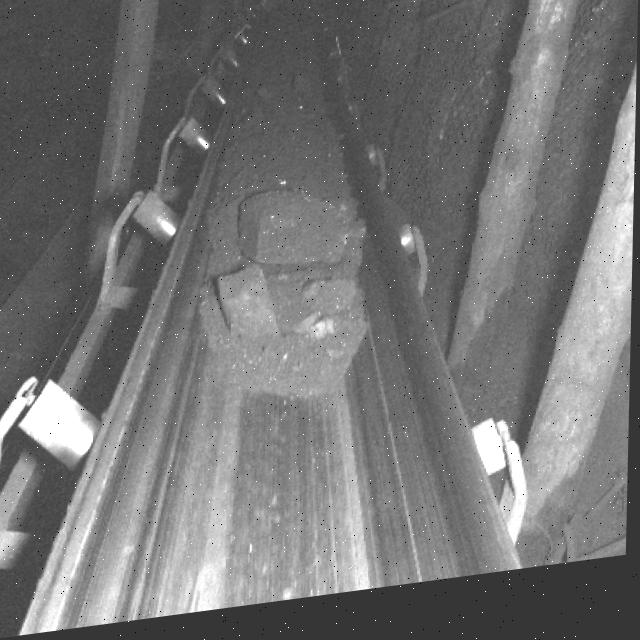large_sized_coal: (240, 193, 352, 284), (217, 273, 284, 360), (297, 282, 368, 352)
